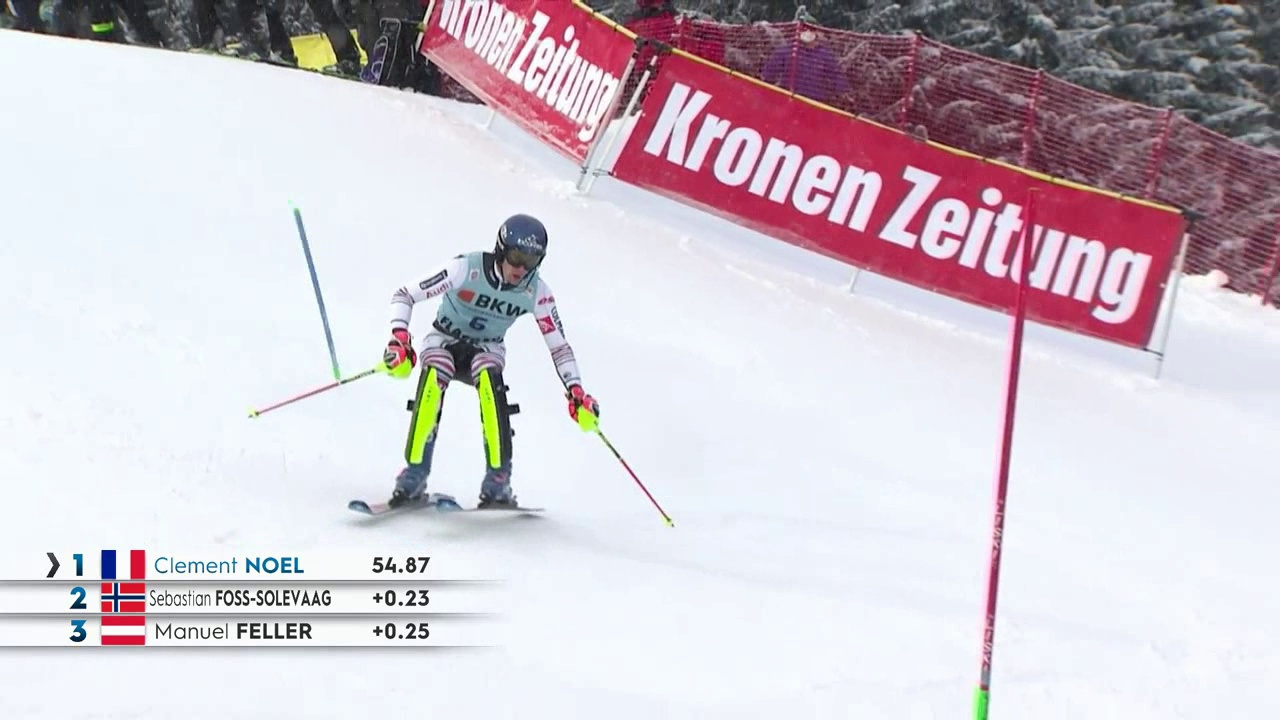kronenzeitung: (431, 1, 634, 155)
